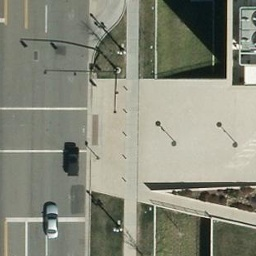car: (63, 146, 77, 181), (43, 205, 57, 239)
